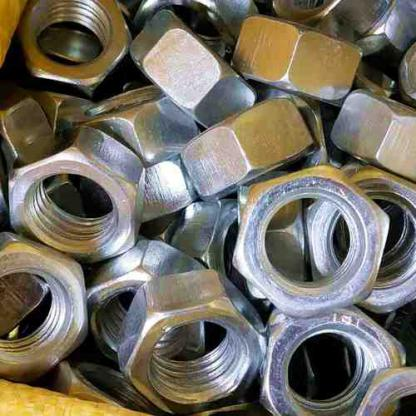FOD: (231, 164, 393, 319), (116, 267, 266, 415), (0, 234, 90, 380), (227, 14, 365, 100), (13, 0, 133, 97)
